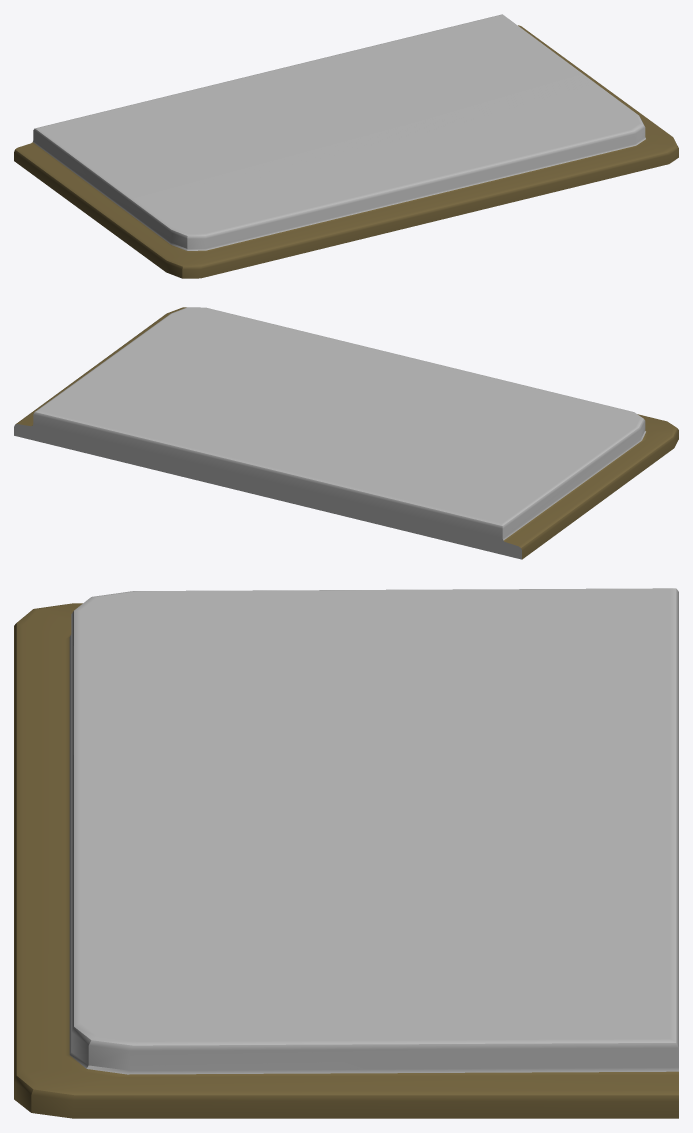
File: FloorPlatformNew.fbx
3 views of the same model, one above another, from view 1: azimuth 30°, elevation 25°; view 2: azimuth 150°, elevation 25°; view 3: azimuth 270°, elevation 25° (orthographic). The views are drawn at different scales.
Parts seen in each view (by area): view 1: FloorPlatform; view 2: FloorPlatform; view 3: FloorPlatform.
Part boxes in pixels (x1,y1,x2,y2): FloorPlatform: (14,14,678,278); FloorPlatform: (14,307,678,559); FloorPlatform: (14,588,678,1118).
Bounding box in the file's own units: 21.06 × 1.15 × 11.99.
